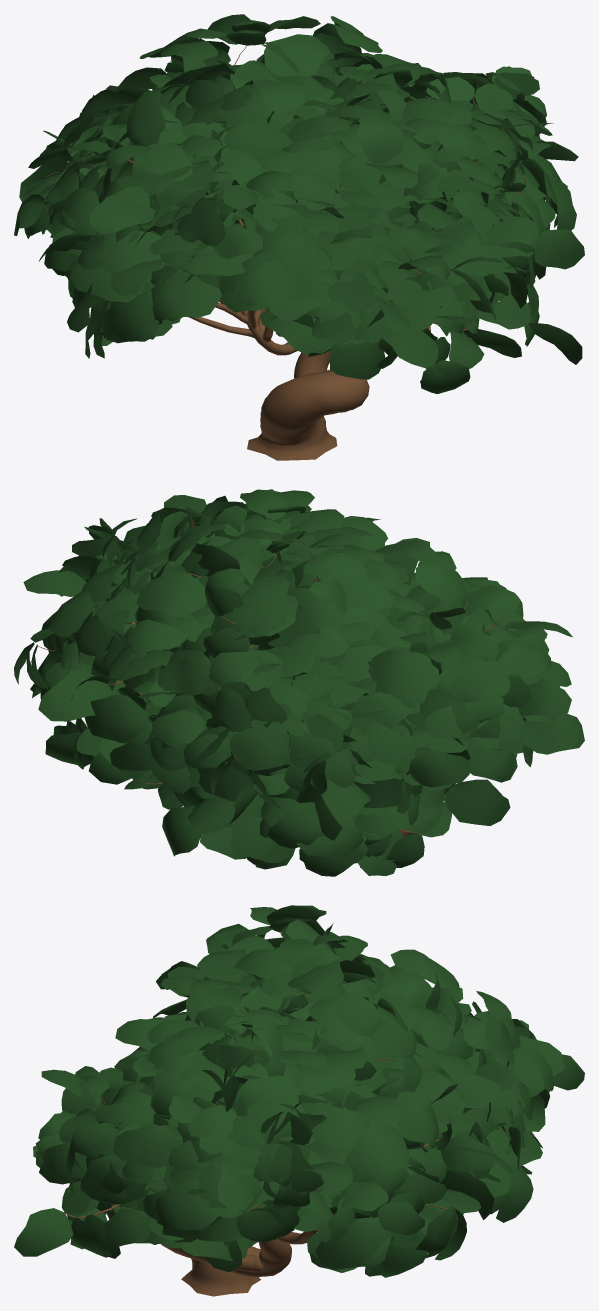
File: courtyard-banyan.glb
The picture shows the model from 3 angles, top to bottom: view 1: azimuth 30°, elevation 25°; view 2: azimuth 150°, elevation 25°; view 3: azimuth 270°, elevation 25°; orthographic projection. The views are drawn at different scales.
Parts seen in each view (by area): view 1: Courtyard tree from user Blender scene; view 2: Courtyard tree from user Blender scene; view 3: Courtyard tree from user Blender scene.
Boxes of the visible parts, left/top/right/bottom form: Courtyard tree from user Blender scene: left=14, top=14, right=584, bottom=460; Courtyard tree from user Blender scene: left=14, top=489, right=584, bottom=876; Courtyard tree from user Blender scene: left=14, top=905, right=584, bottom=1296.
Size of the model in its own units: 3.19 by 2.06 by 3.13.
